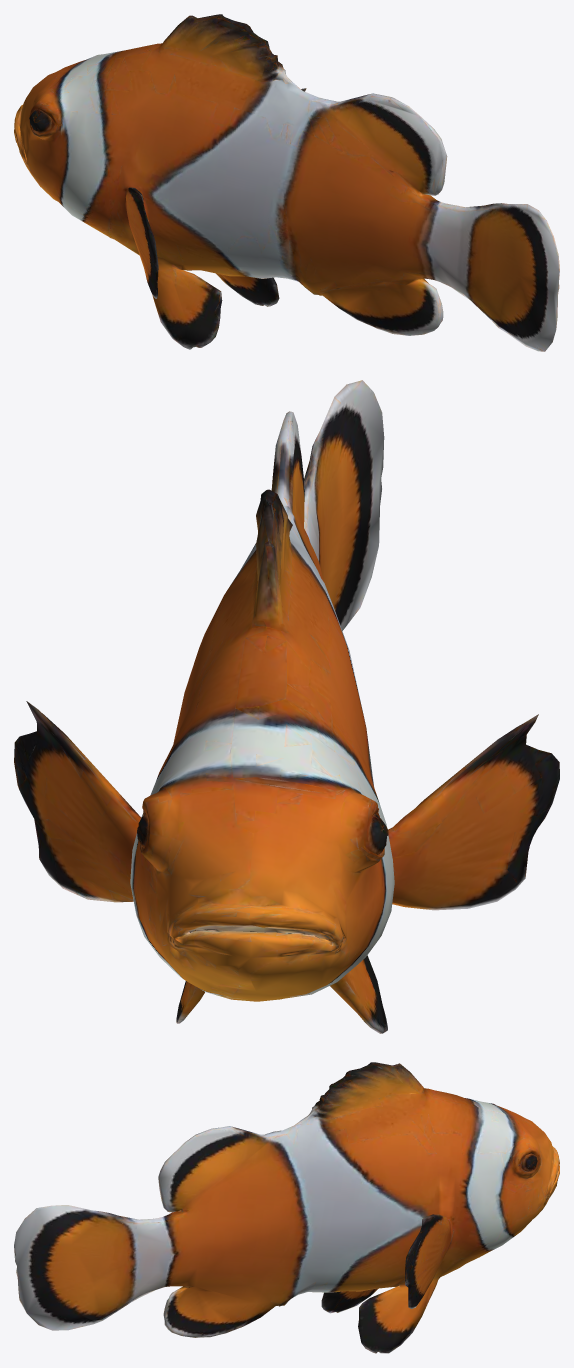
File: clownvis.glb
3 views of the same model, one above another, from view 1: azimuth 30°, elevation 25°; view 2: azimuth 150°, elevation 25°; view 3: azimuth 270°, elevation 25° (orthographic). The views are drawn at different scales.
Visible parts, largest first — view 1: tripo_node_1a559b6d-9a50-458f-a80b-7943aee0c47e; view 2: tripo_node_1a559b6d-9a50-458f-a80b-7943aee0c47e; view 3: tripo_node_1a559b6d-9a50-458f-a80b-7943aee0c47e.
Part boxes in pixels (x1,y1,x2,y2): tripo_node_1a559b6d-9a50-458f-a80b-7943aee0c47e: (14,14,559,351); tripo_node_1a559b6d-9a50-458f-a80b-7943aee0c47e: (14,380,559,1033); tripo_node_1a559b6d-9a50-458f-a80b-7943aee0c47e: (14,1062,559,1353).
Bounding box in the file's own units: 0.1351 × 0.15 × 0.2728.
1 material, 1 textured.
